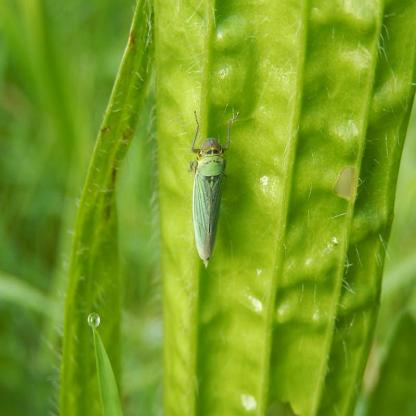Green-Leafhopper: (187, 107, 233, 275)
